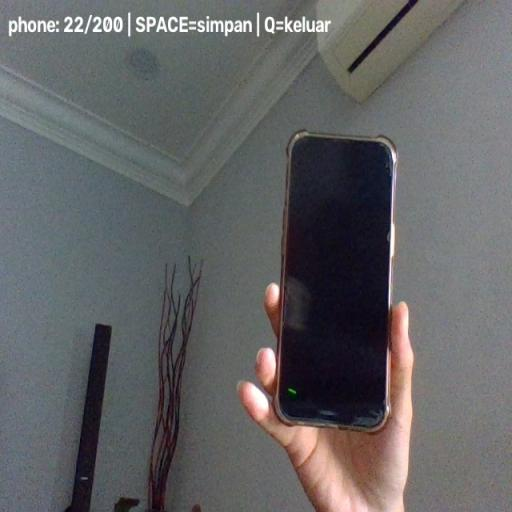Phone: (272, 129, 399, 435)
